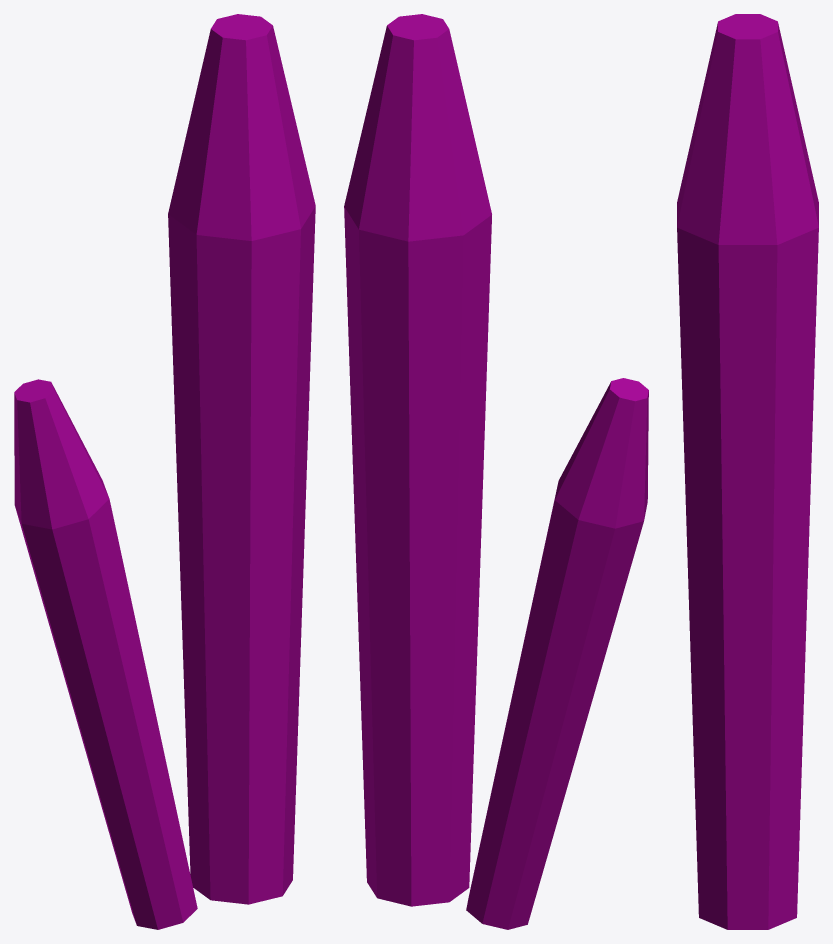
File: Collider_Big_Cactus_002.fbx
3 renders of one model, left to right at view 1: azimuth 30°, elevation 25°; view 2: azimuth 150°, elevation 25°; view 3: azimuth 270°, elevation 25°, orthographic. The views are drawn at different scales.
Parts seen in each view (by area): view 1: Collider_Big_Cactus_002; view 2: Collider_Big_Cactus_002; view 3: Collider_Big_Cactus_002.
Part boxes in pixels (<box>): Collider_Big_Cactus_002: <box>14,14,315,929</box>; Collider_Big_Cactus_002: <box>344,14,648,929</box>; Collider_Big_Cactus_002: <box>677,14,818,929</box>.
Size of the model in its own units: 1.04 by 3.03 by 0.4343.
